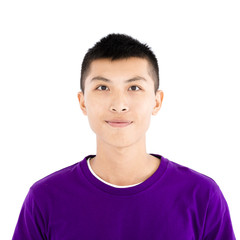young: (67, 32, 161, 142)
